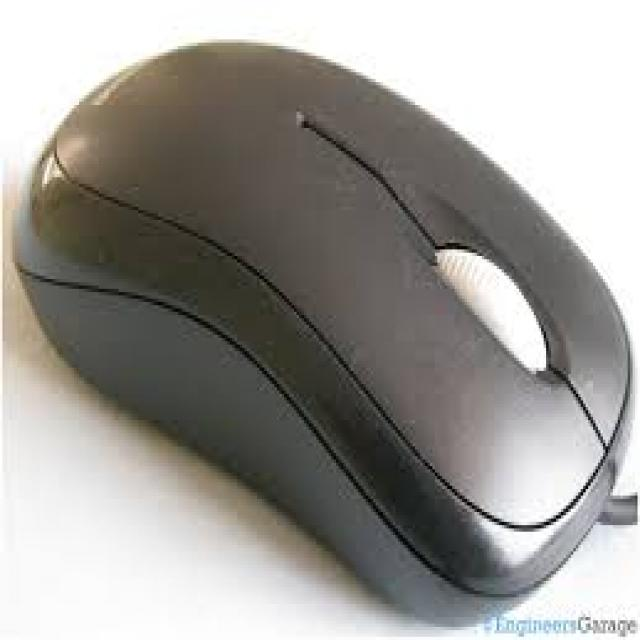others: (7, 10, 640, 607)
